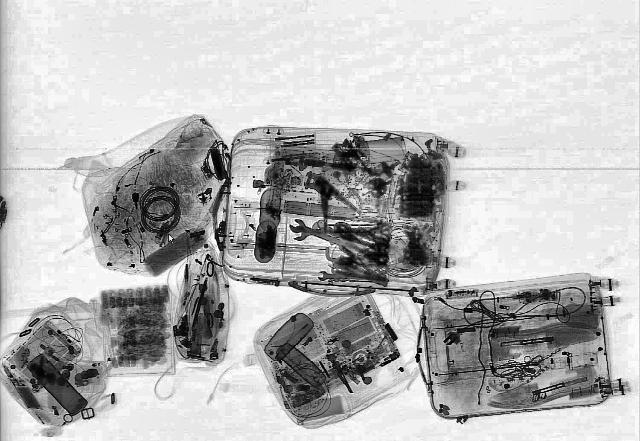Wrench: (283, 217, 357, 253), (292, 222, 346, 241), (316, 271, 354, 281)
